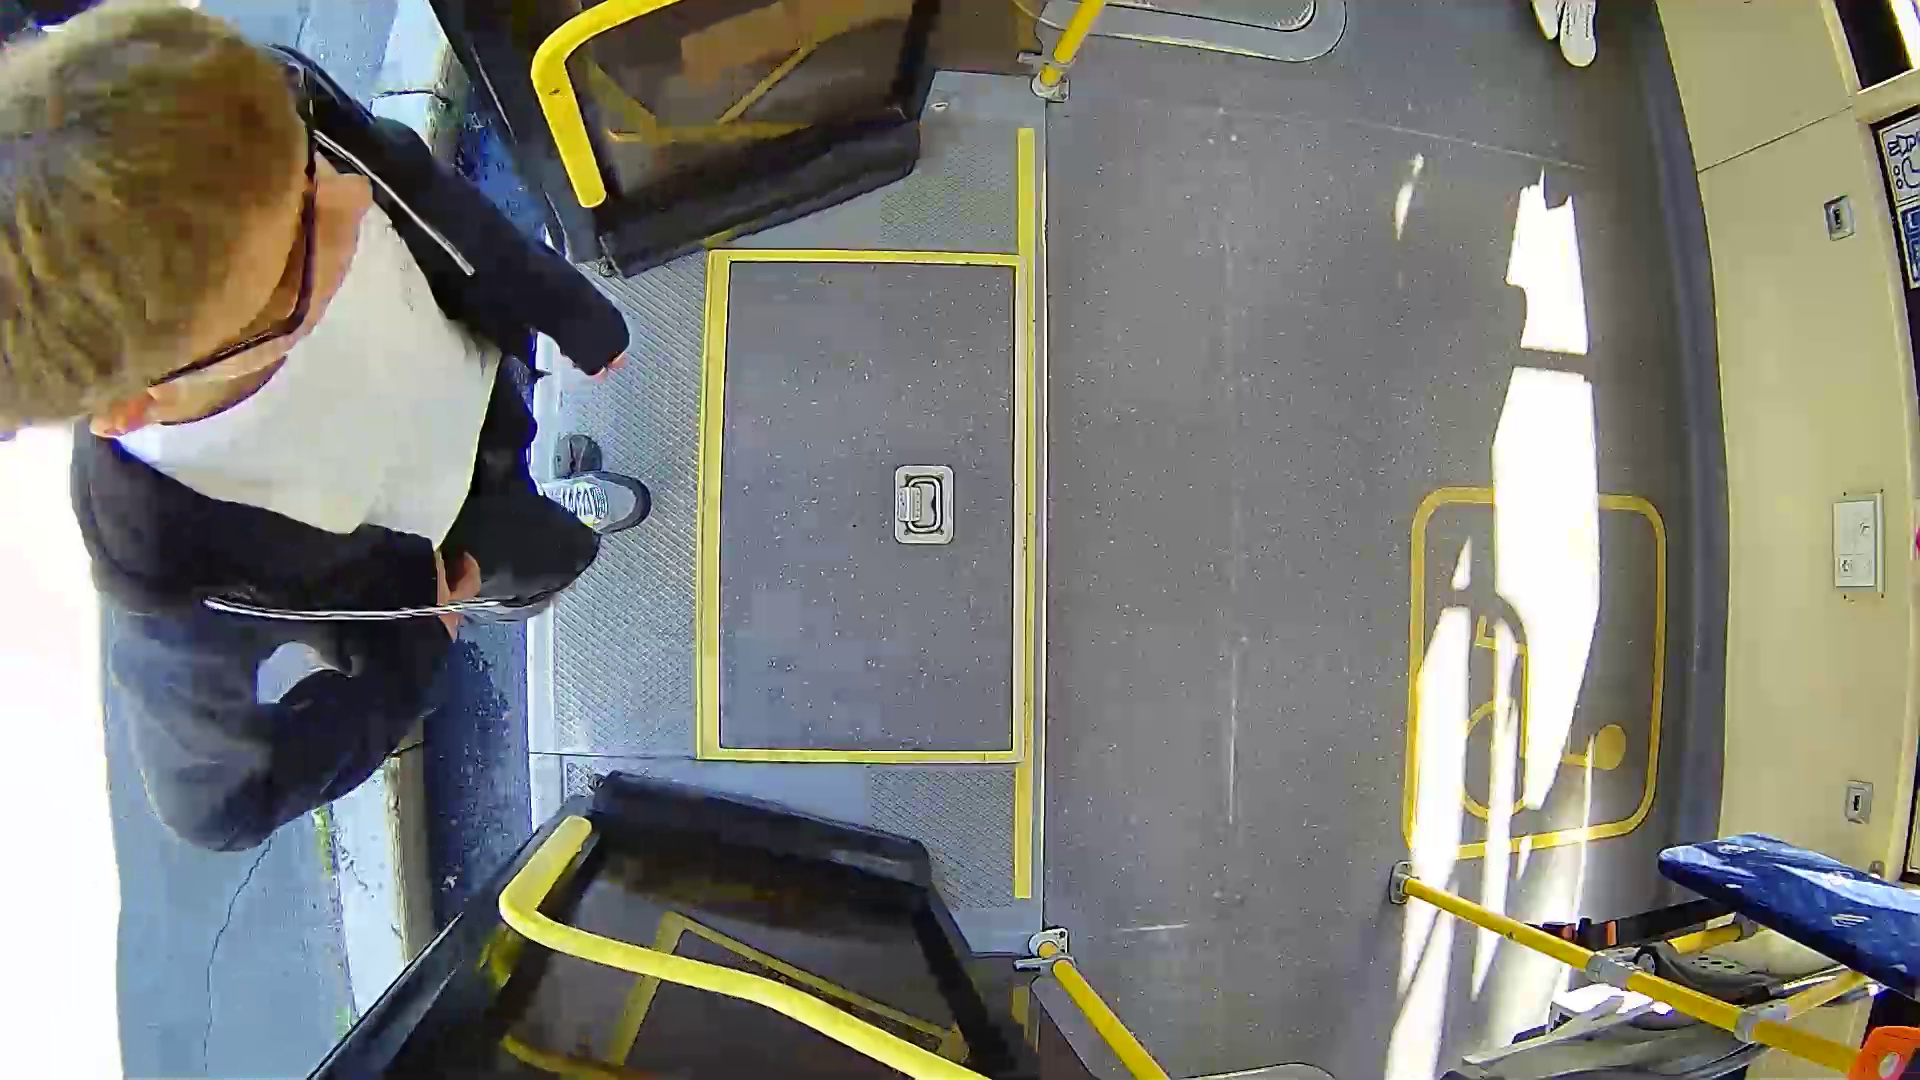person: (10, 18, 724, 844)
